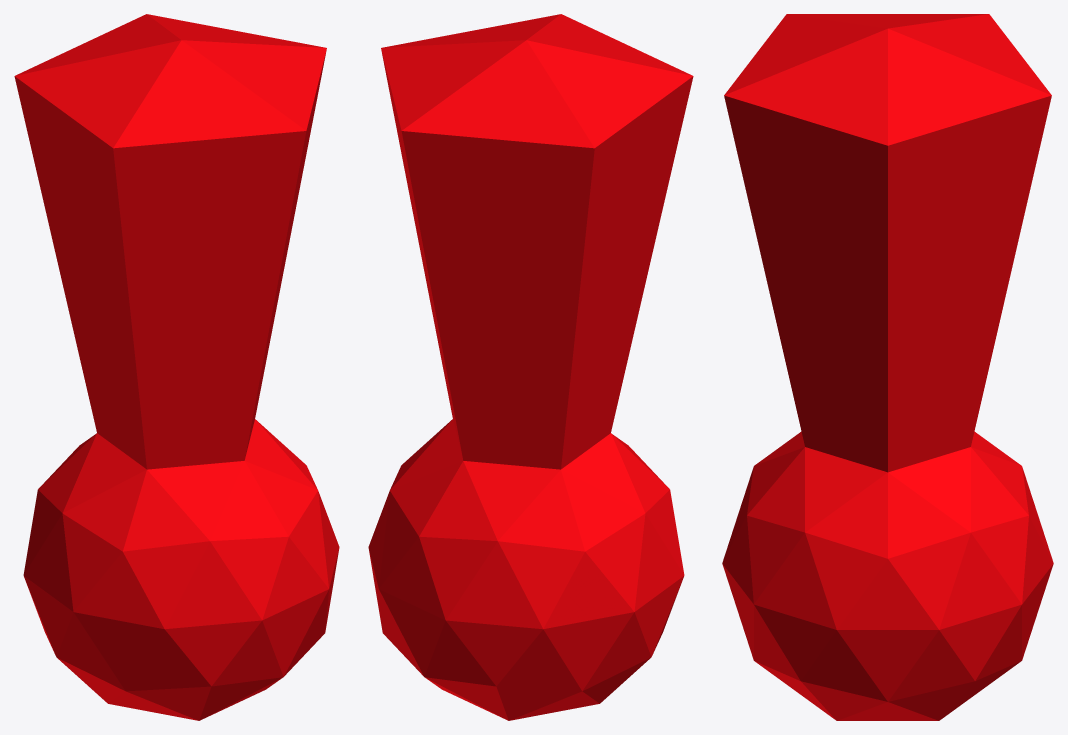
The model's file is exclamation.glb.
The picture shows the model from 3 angles, left to right: view 1: azimuth 30°, elevation 25°; view 2: azimuth 150°, elevation 25°; view 3: azimuth 270°, elevation 25°; orthographic projection. The views are drawn at different scales.
Visible parts, largest first — view 1: Icosphere; view 2: Icosphere; view 3: Icosphere.
Boxes of the visible parts, x1,y1,x2,y2 form: Icosphere: (14, 14, 339, 720); Icosphere: (368, 14, 693, 720); Icosphere: (722, 14, 1053, 720).
Size of the model in its own units: 1.99 by 4.56 by 2.
1 material, 1 textured.
